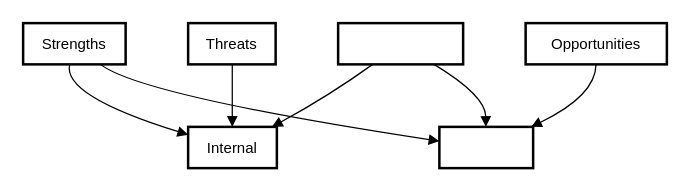
Some shapes in this 689 by 190 pixel diagram are drawn without their labels. Each missing label, with the centre of its shape:
"External" goes at pixel 486 147.
"Weaknesses" goes at pixel 400 43.
